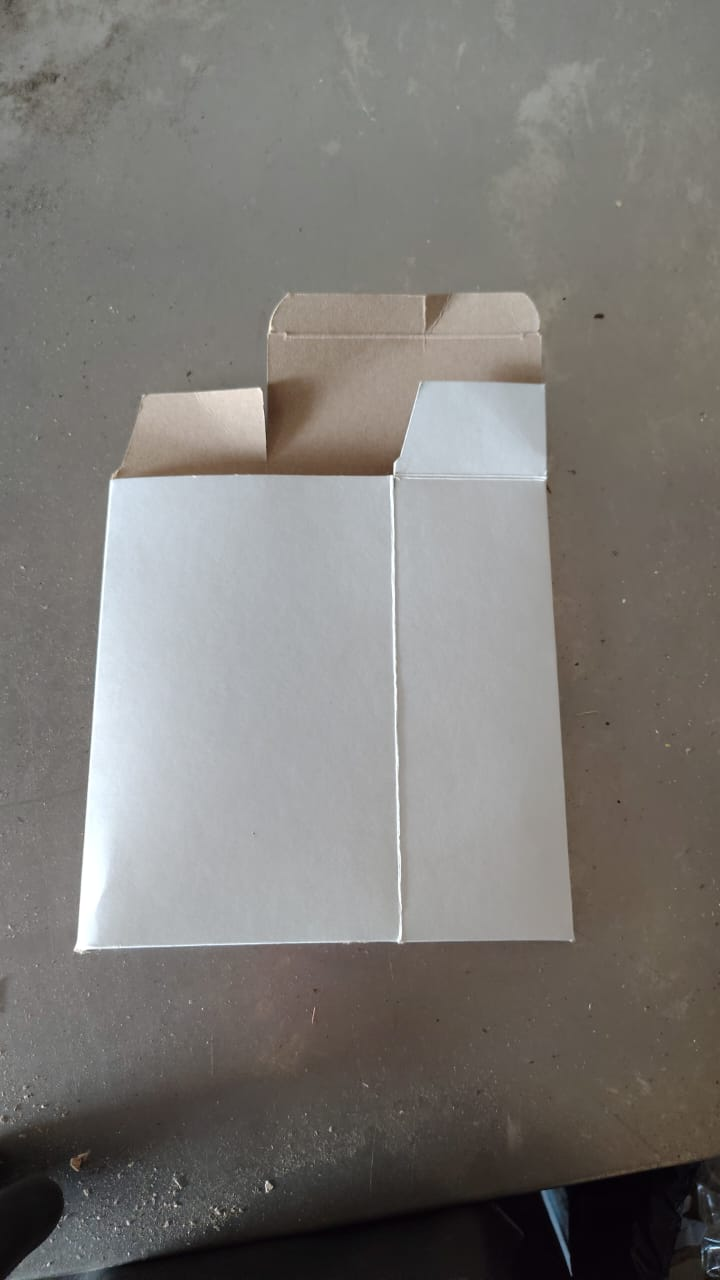Carton: (75, 291, 584, 948)
